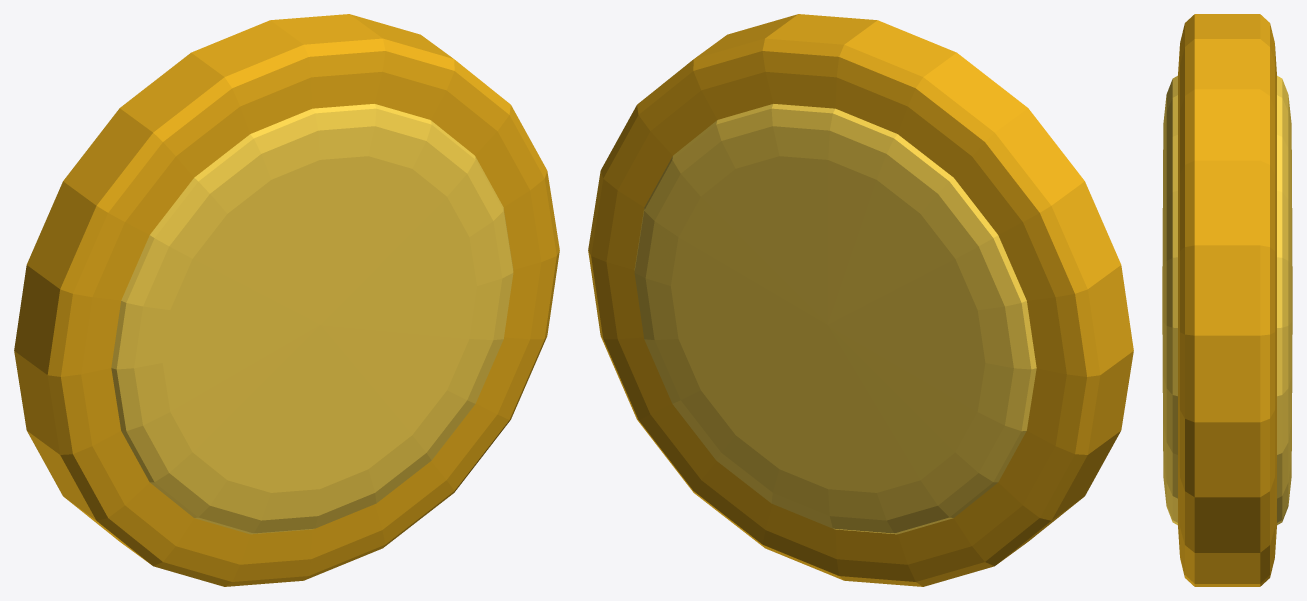
The model's file is coin.glb.
3 views of the same model, side by side, from view 1: azimuth 30°, elevation 25°; view 2: azimuth 150°, elevation 25°; view 3: azimuth 270°, elevation 25° (orthographic). The views are drawn at different scales.
Parts seen in each view (by area): view 1: coin; view 2: coin; view 3: coin.
Boxes of the visible parts, x1,y1,x2,y2 form: coin: [14, 14, 559, 586]; coin: [588, 14, 1133, 586]; coin: [1162, 14, 1292, 586].
Size of the model in its own units: 0.3985 by 0.3985 by 0.09.
